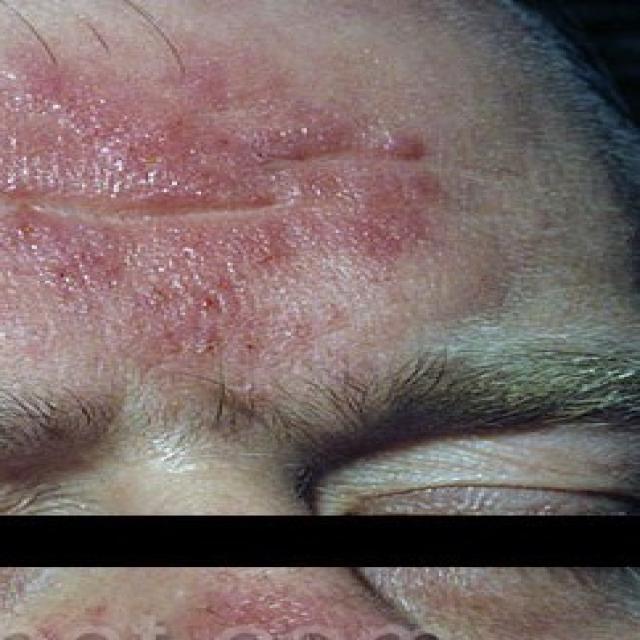Rosacea: (19, 81, 462, 289)
